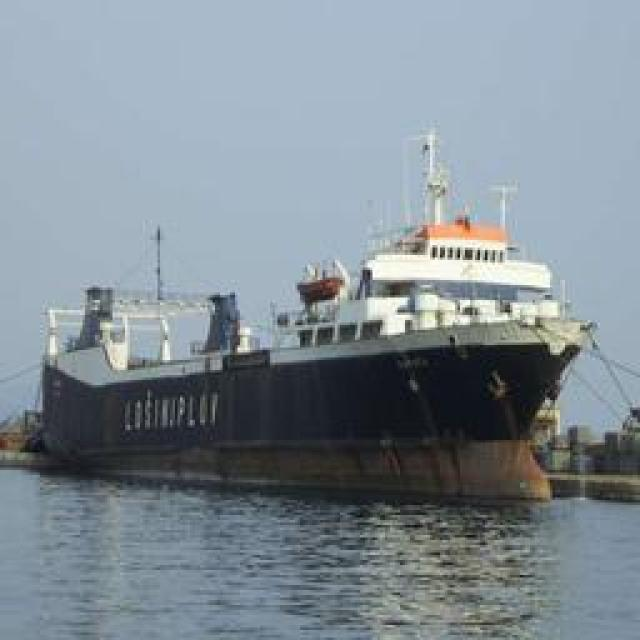CIV_Ship: (48, 111, 578, 481)
